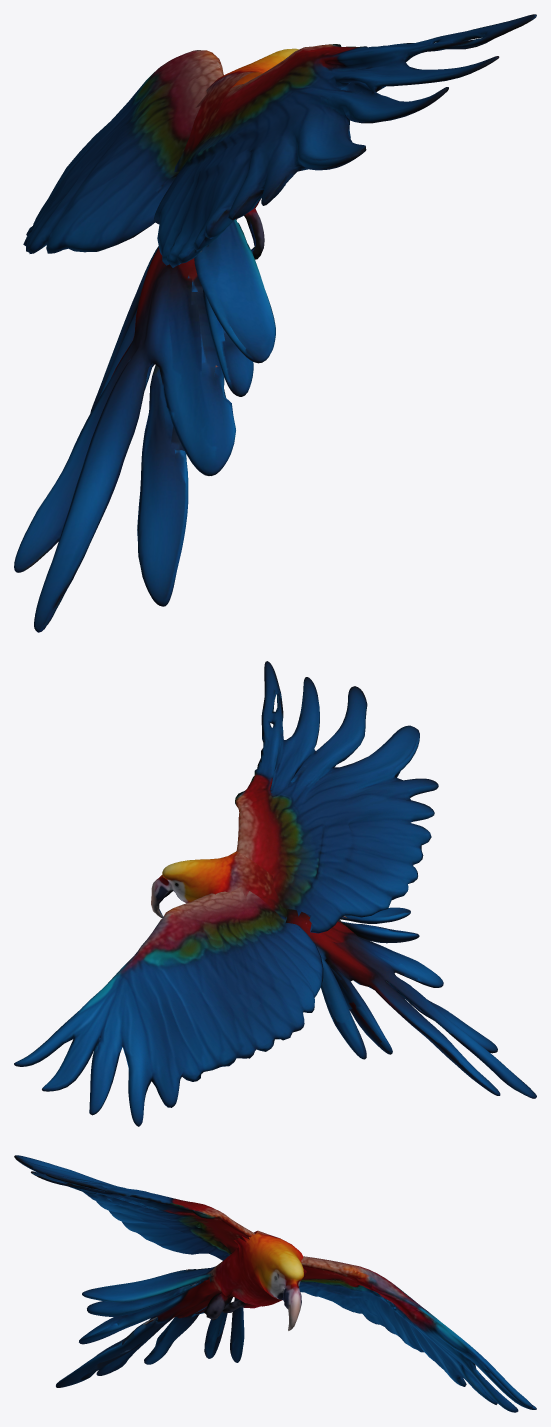
The model's file is Guacamaya.glb.
The picture shows the model from 3 angles, top to bottom: view 1: azimuth 30°, elevation 25°; view 2: azimuth 150°, elevation 25°; view 3: azimuth 270°, elevation 25°; orthographic projection. The views are drawn at different scales.
Visible parts, largest first — view 1: tripo_node_5167a12f, tripo_node_5167a12f.002, tripo_node_5167a12f.001; view 2: tripo_node_5167a12f.001, tripo_node_5167a12f.002, tripo_node_5167a12f; view 3: tripo_node_5167a12f, tripo_node_5167a12f.001, tripo_node_5167a12f.002.
Boxes of the visible parts, box(x1,y1,x2,y2) form: tripo_node_5167a12f: box(14, 48, 298, 632); tripo_node_5167a12f.002: box(154, 14, 536, 267); tripo_node_5167a12f.001: box(23, 50, 223, 253); tripo_node_5167a12f.001: box(14, 887, 323, 1126); tripo_node_5167a12f.002: box(235, 661, 438, 933); tripo_node_5167a12f: box(151, 851, 536, 1098); tripo_node_5167a12f: box(56, 1230, 306, 1387); tripo_node_5167a12f.001: box(299, 1256, 536, 1412); tripo_node_5167a12f.002: box(14, 1155, 254, 1260).
Size of the model in its own units: 2.6 by 2.8 by 3.83.
1 material, 1 textured.
